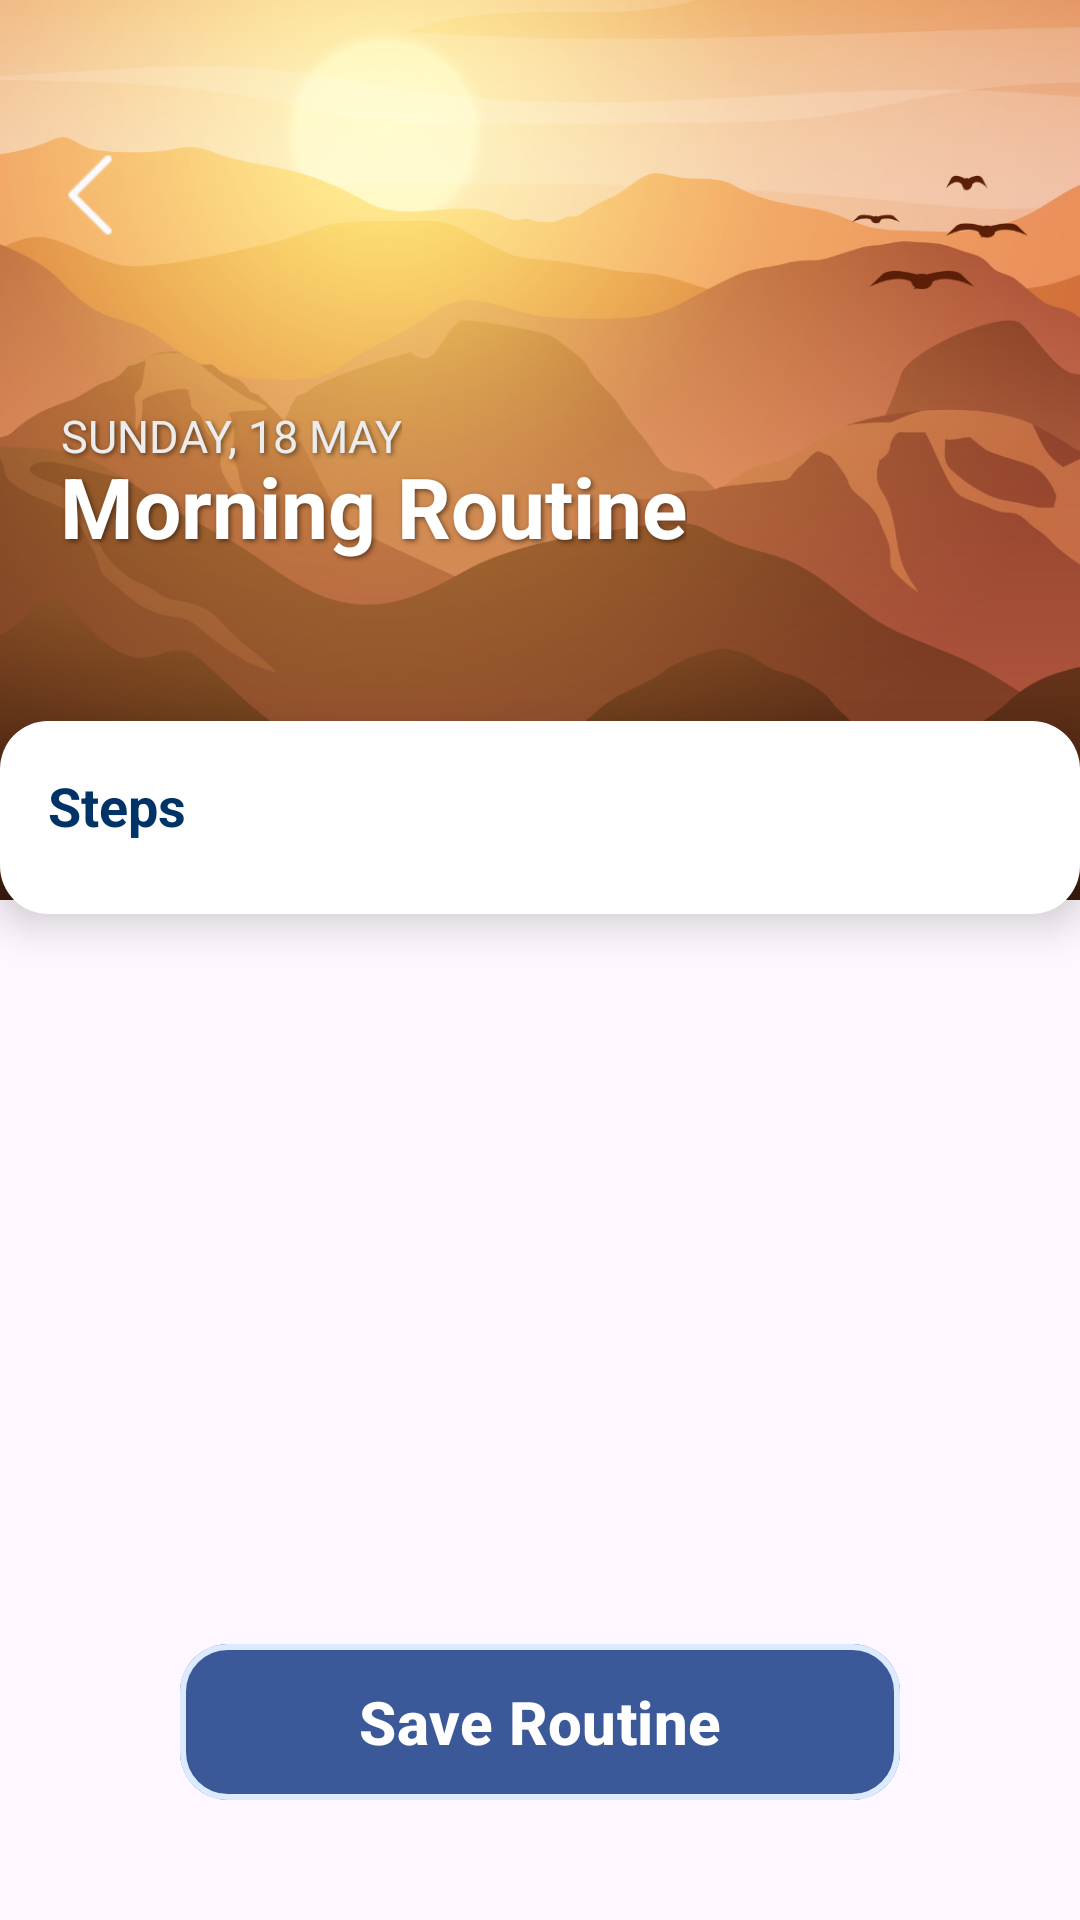

Icon click points for this 1080*1920 phone screenshot, format (x=x, y=y):
back: (x=90, y=195)
